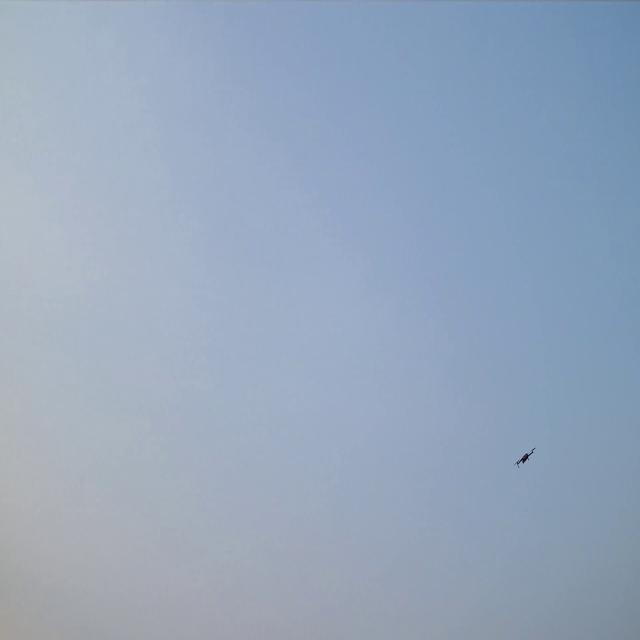UAV: (511, 444, 539, 474)
